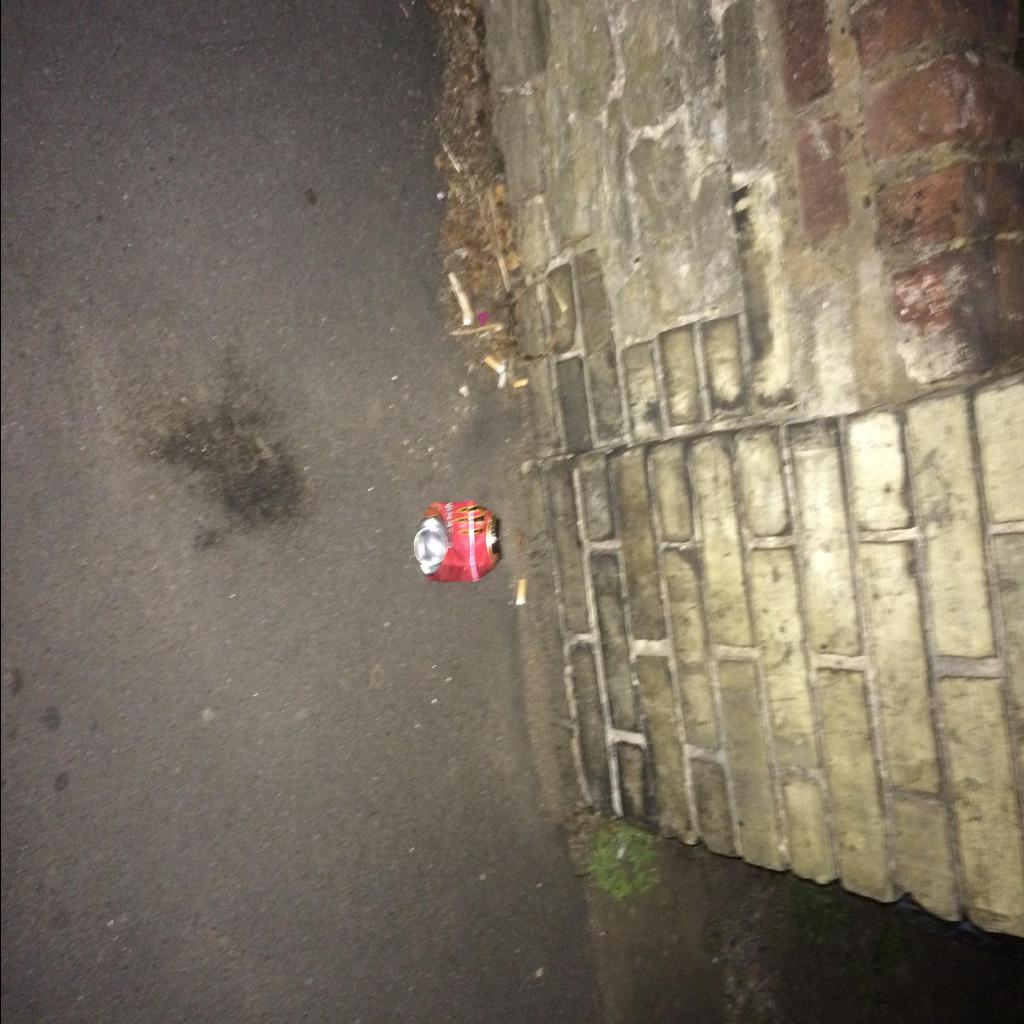Cigarette: (482, 355, 502, 374), (514, 579, 524, 604)
Drink can: (414, 501, 500, 581)
